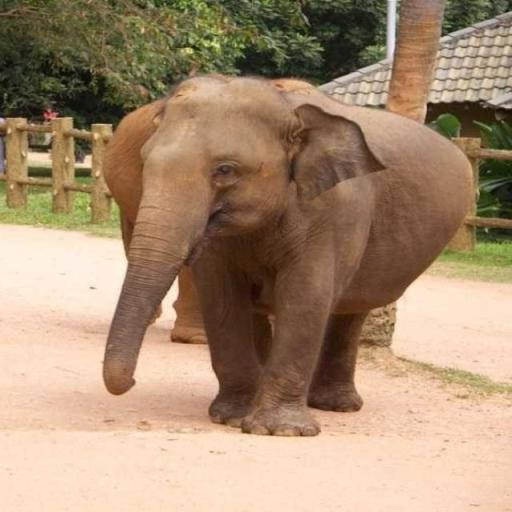Elephant: (100, 72, 477, 436)
